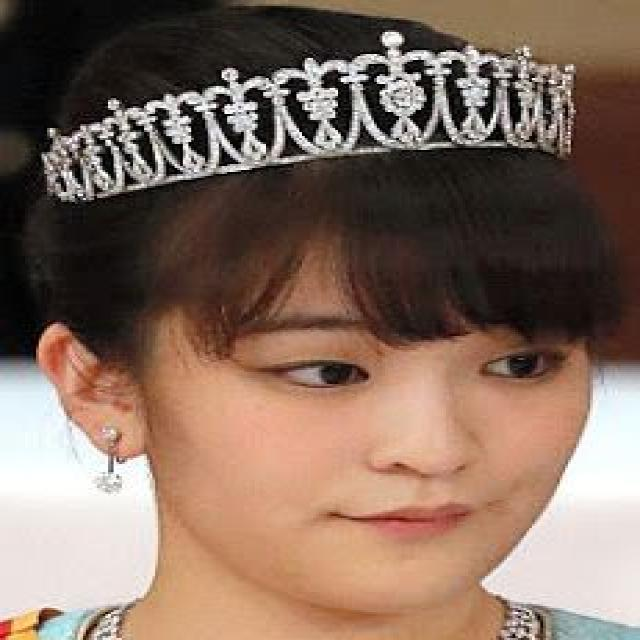Earring: (96, 422, 122, 496)
